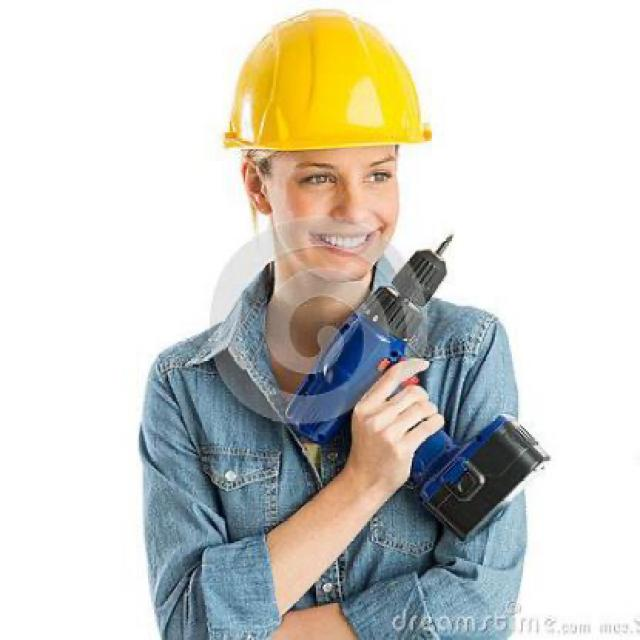helmet: (197, 0, 462, 315)
